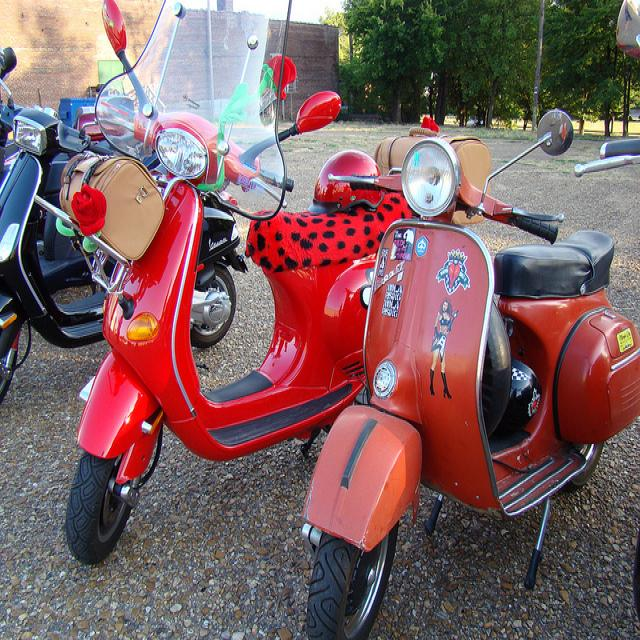motor: (300, 111, 640, 640), (78, 1, 403, 548)
